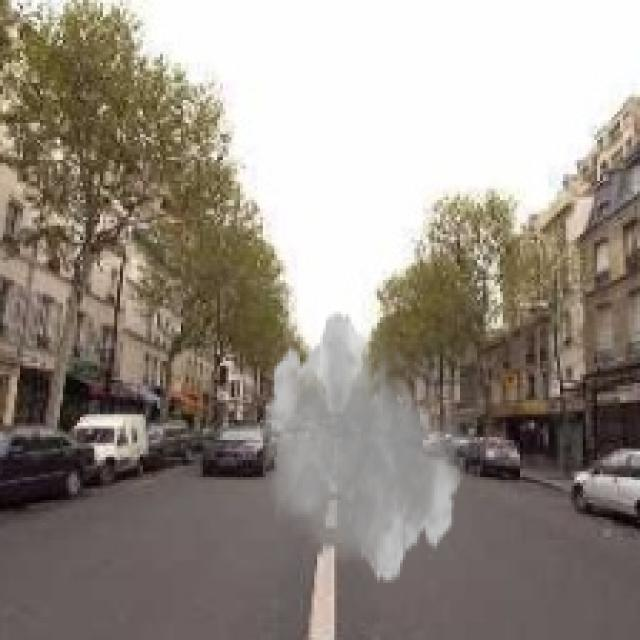smoke: (260, 308, 466, 586)
